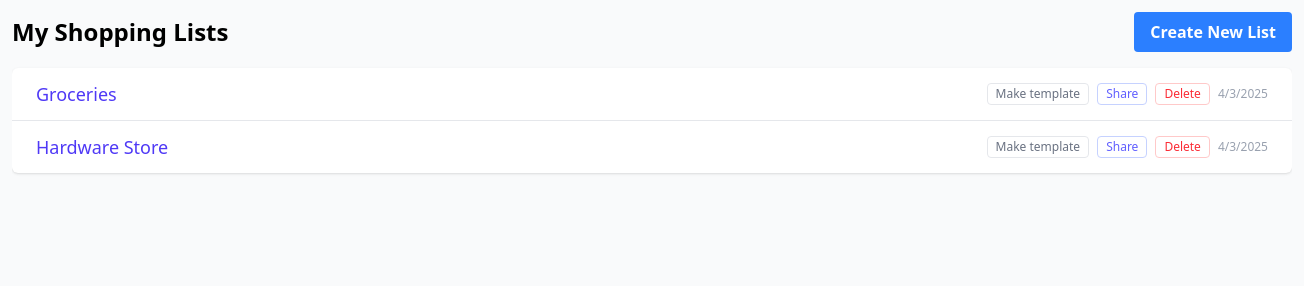
it: ShoppingListsPage Component › toggles an active list to template when 'Make template' is clicked
The width and height of the screenshot is (1304, 286).
Expected: the link "Groceries" is shown, [36,80,117,108]
What coordinates should you click on to do the following:
click the button "Make template" in the row of "Groceries"
I would click on:
 (1038, 94)
Its box is [987,83,1089,105].
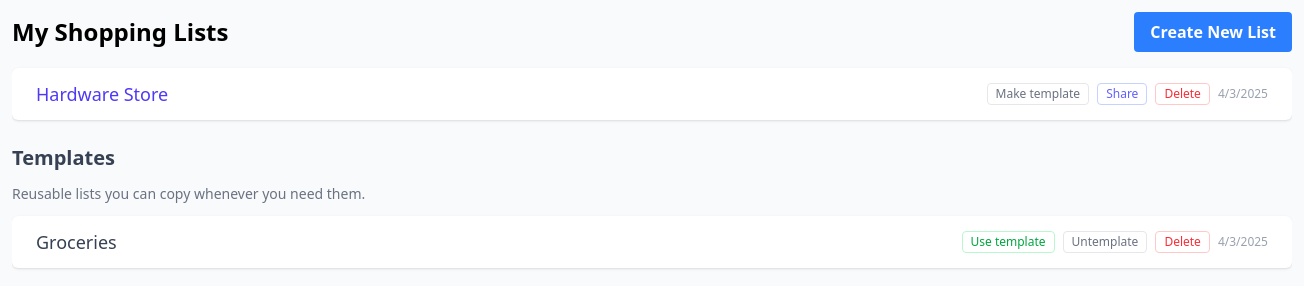
Now the heading "Templates" is shown, box [12,144,115,171]
